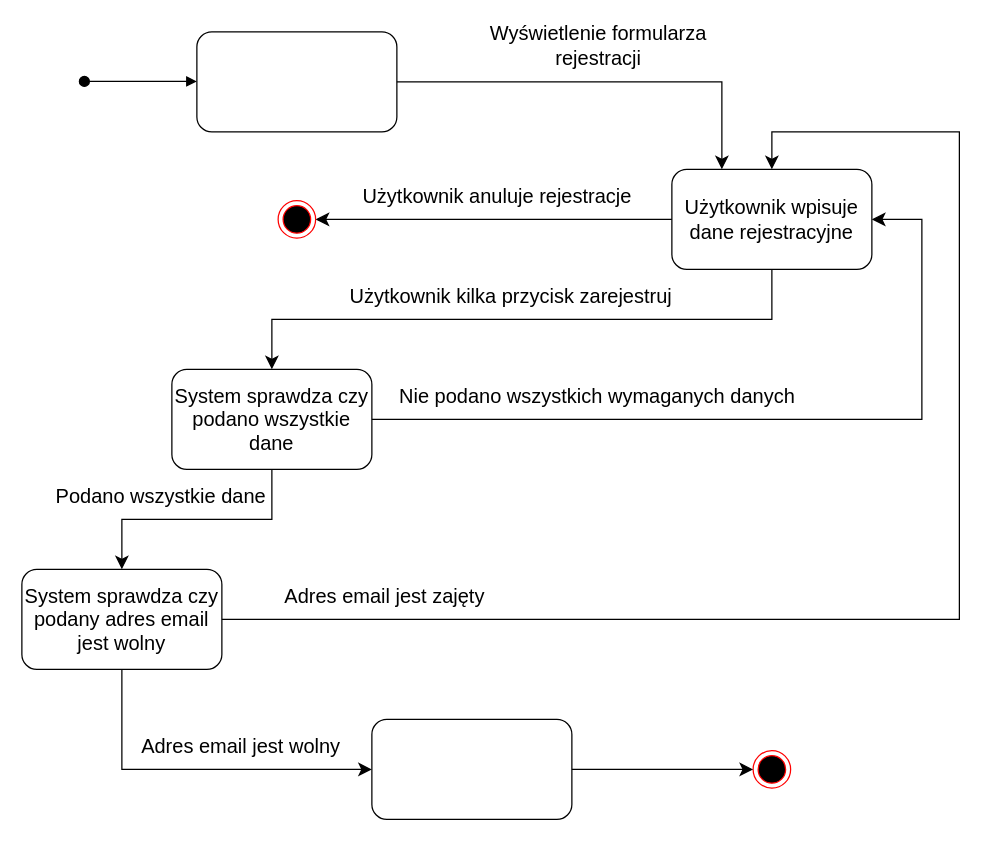
Image size: 994x841. Some labels were removed from this diagram. The shapes that lost their labels are listed below. From the top down, each one's centre as x and y in pixels, then its label:
At point 296,81: "Użytkownik na stronie logowania klika przycisk rejestracji".
At point 471,768: "System rejestruje nowego użytkownika".
